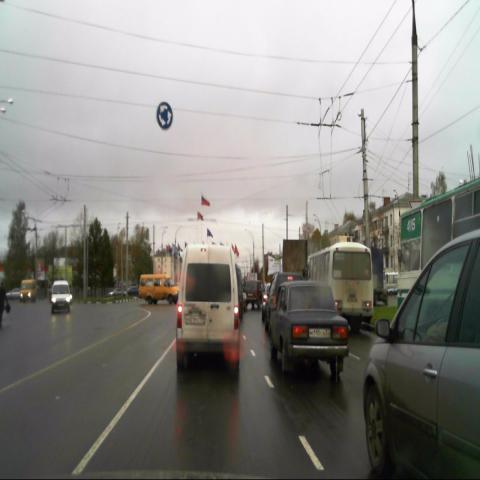4_3: (156, 101, 173, 130)
